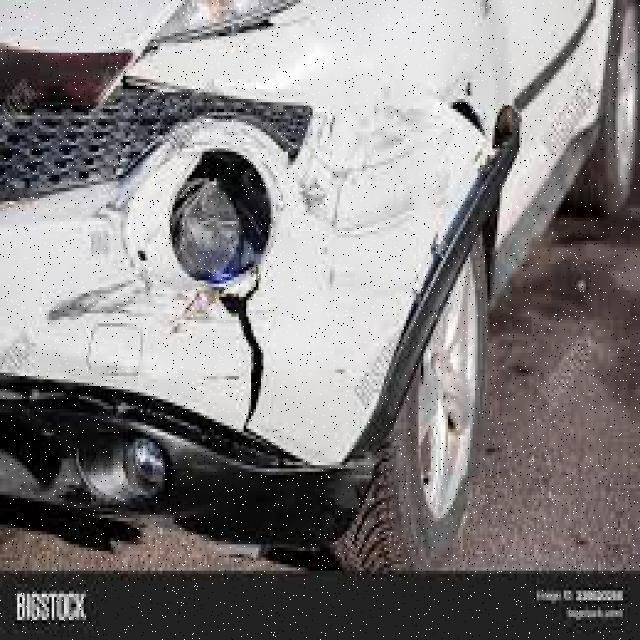front-bumper-dent: (0, 86, 527, 466)
